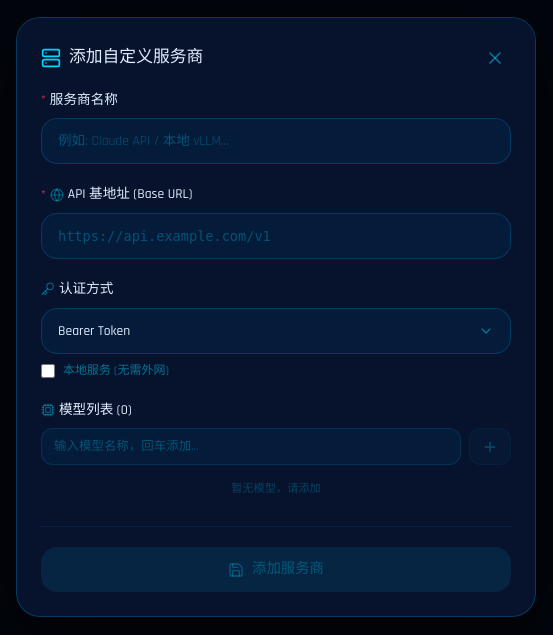
Test: ProviderEditorModal › 模型列表管理 › can add model name to list
The image size is (553, 635).
In the field with placeholder "输入模型名称，回车添加...": {"x": 251, "y": 447} [41, 428, 461, 465], type "gpt-4"
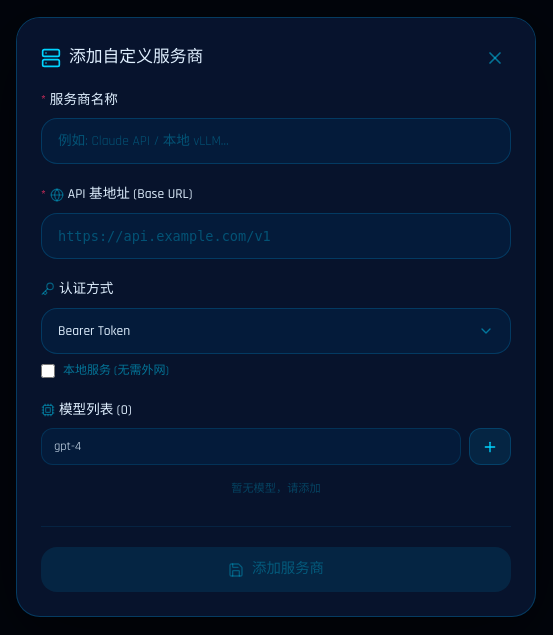
// Find the Plus button by its parent container (the flex div containing the input)
Click the 3rd button: {"x": 490, "y": 447} [469, 428, 511, 465]
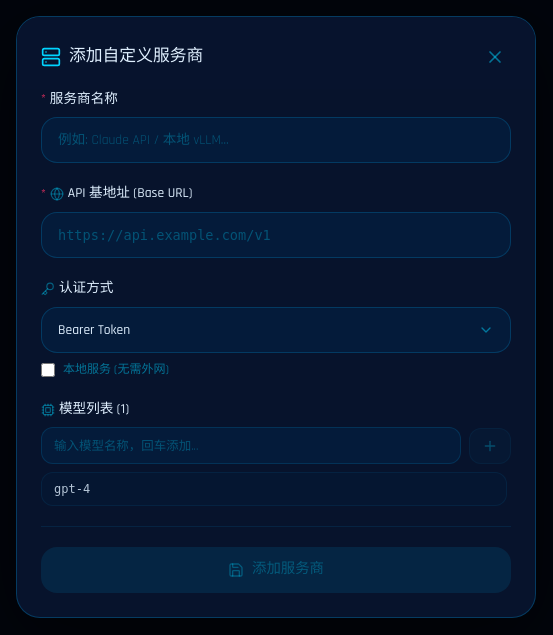
Check: the text "gpt-4" is shown, box [54, 480, 90, 498]
